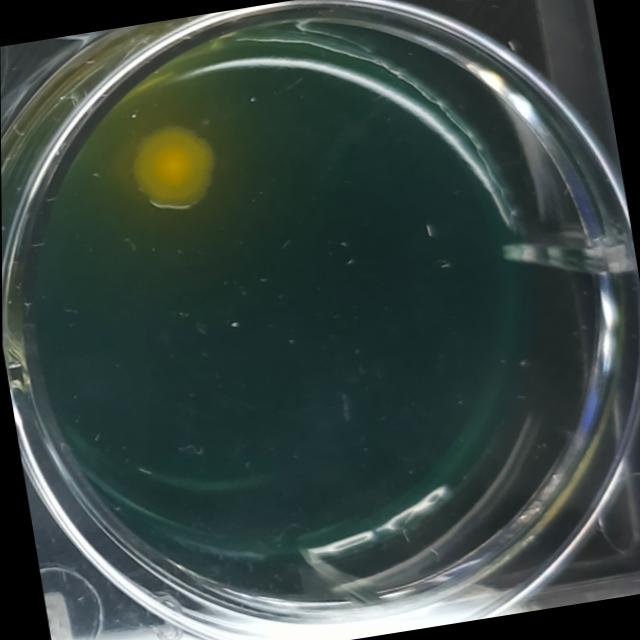vibrio: (106, 92, 247, 238)
